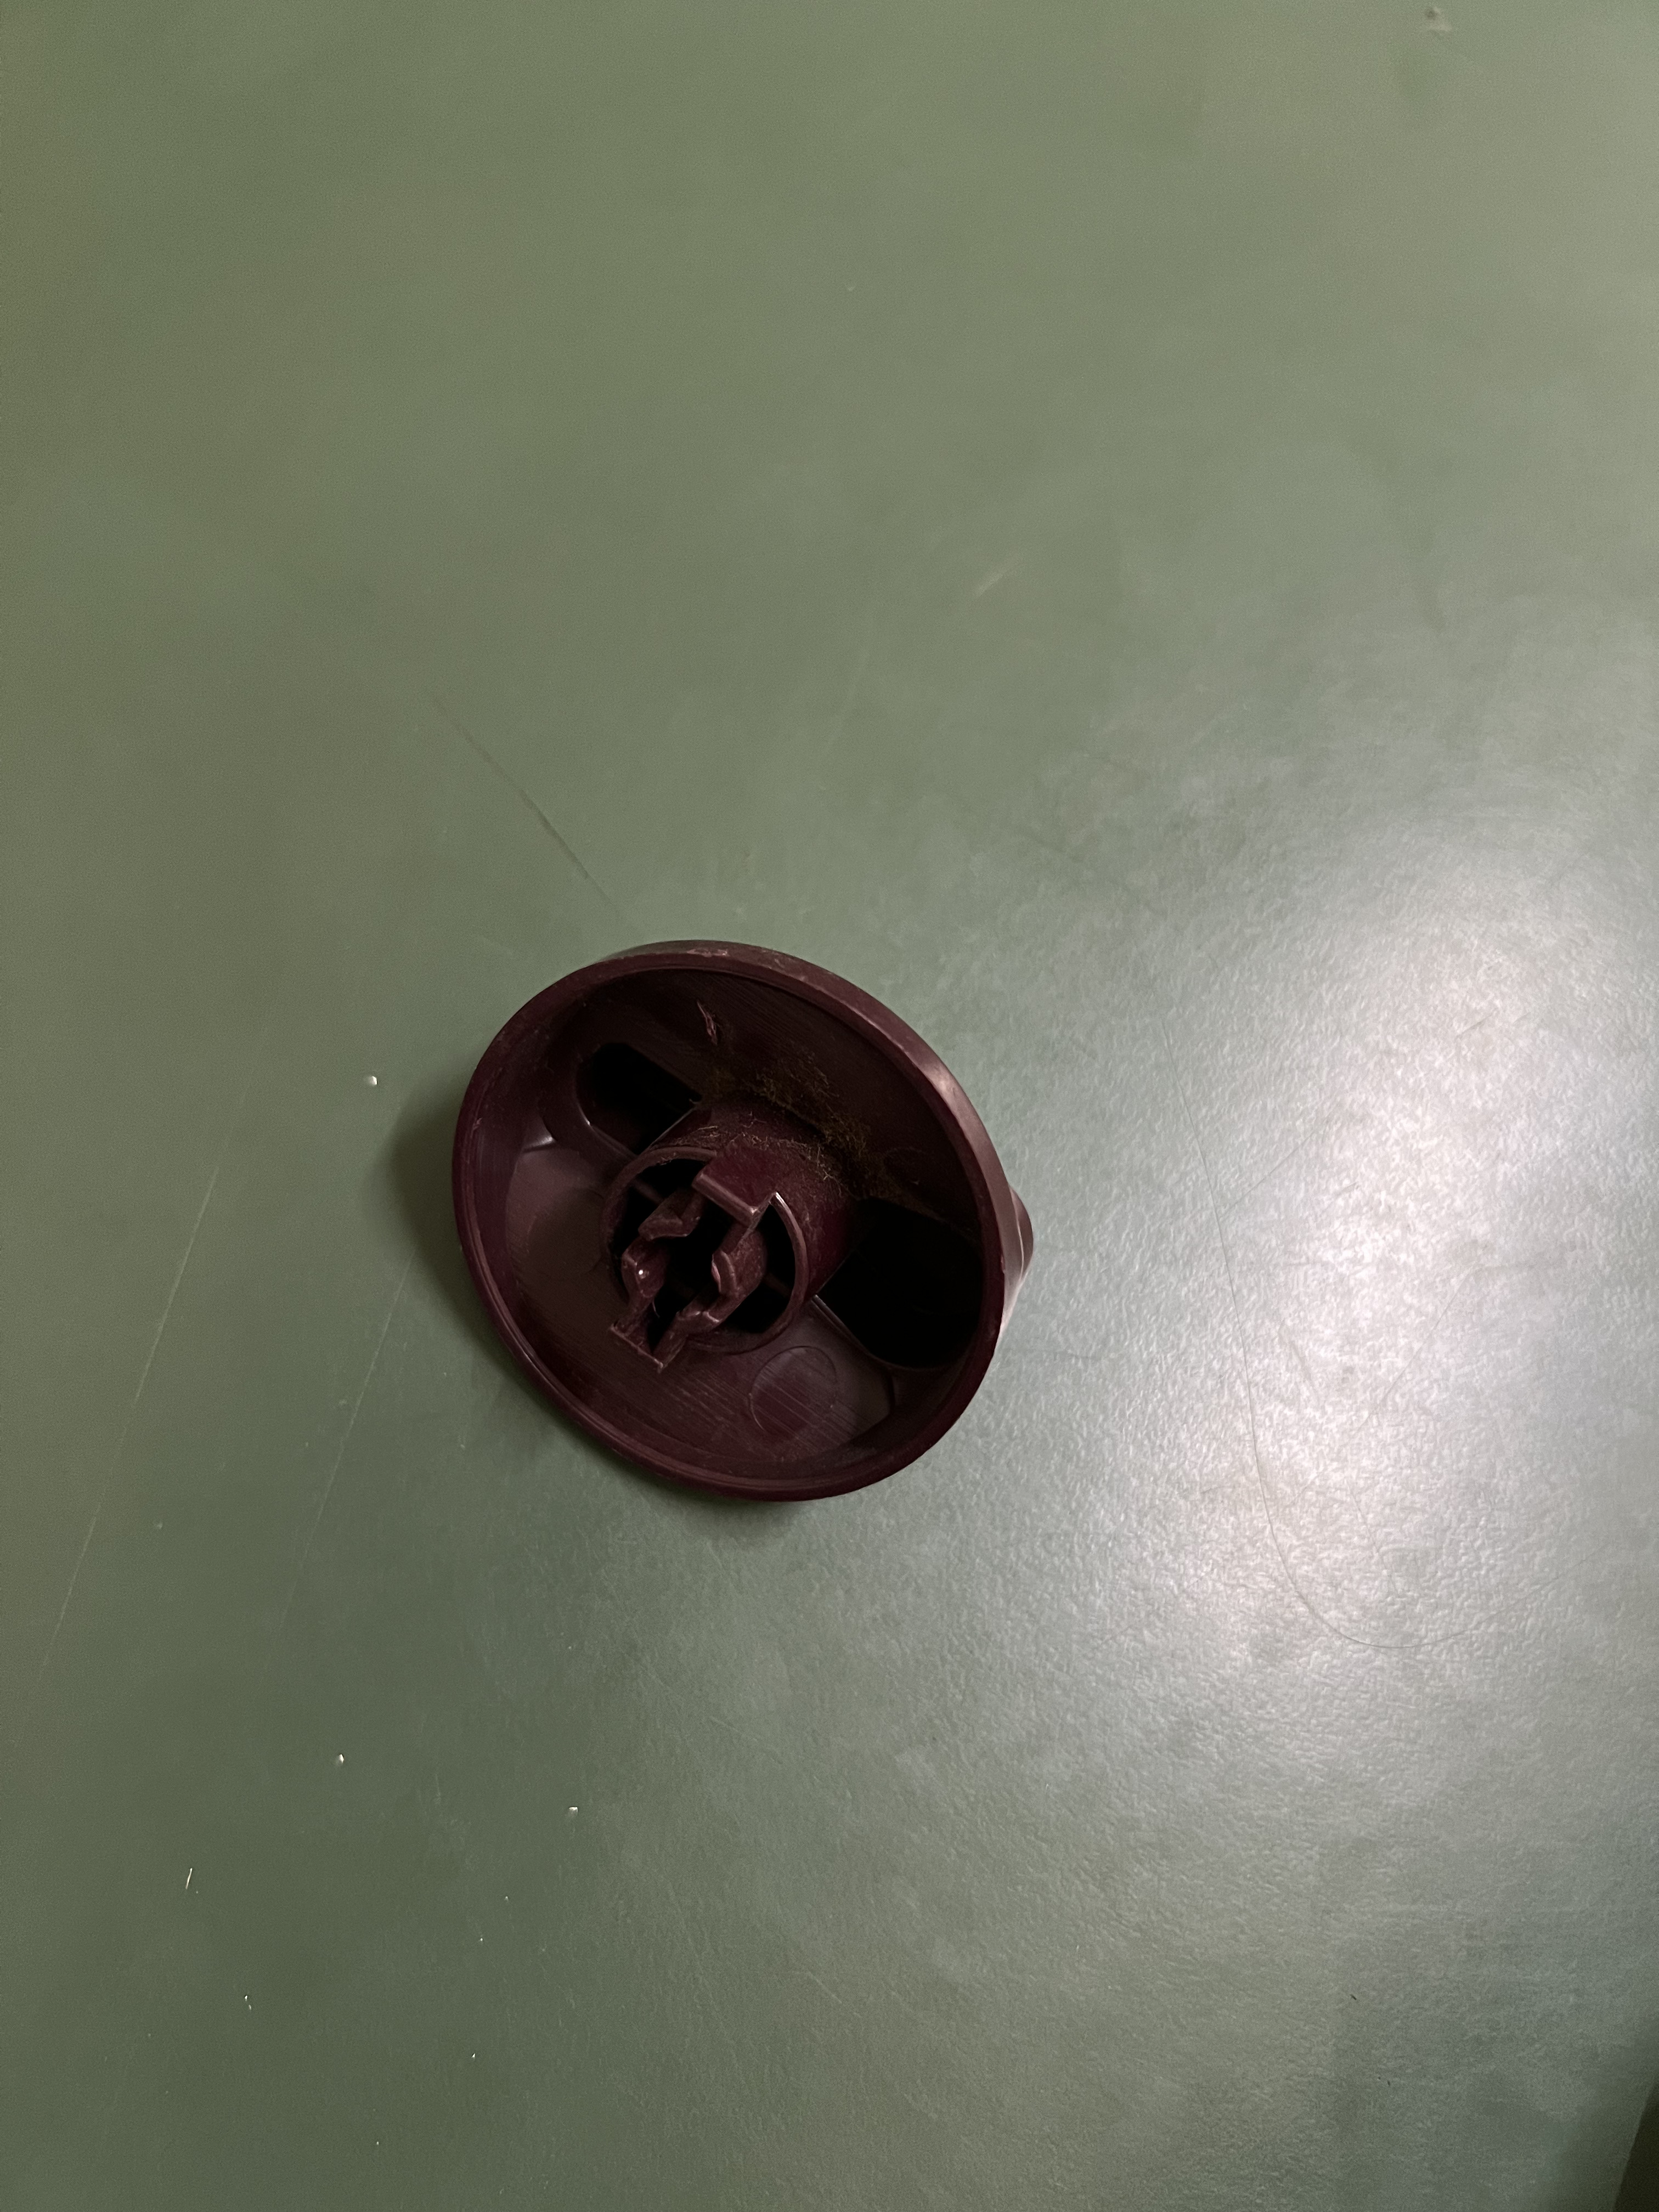regulator: (443, 937, 1061, 1521)
